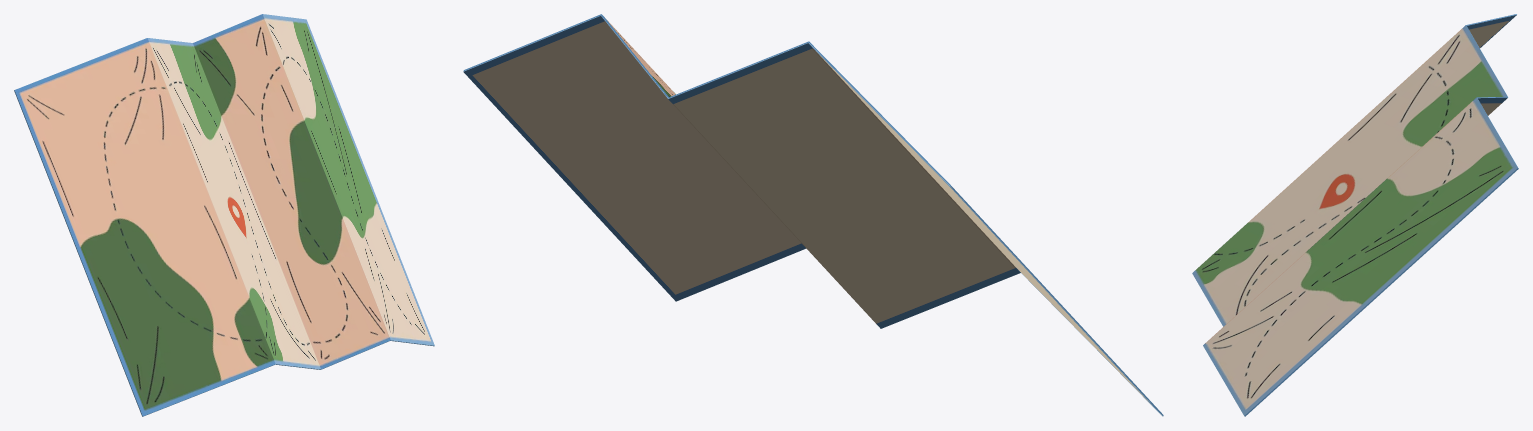
Rendered from Folded Travel Map.obj.
3 views of the same model, side by side, from view 1: azimuth 30°, elevation 25°; view 2: azimuth 150°, elevation 25°; view 3: azimuth 270°, elevation 25° (orthographic). The views are drawn at different scales.
Visible parts, largest first — view 1: FoldedTravelMap; view 2: FoldedTravelMap; view 3: FoldedTravelMap.
Part boxes in pixels (left/top/right/bottom): FoldedTravelMap: left=14, top=14, right=434, bottom=416; FoldedTravelMap: left=463, top=14, right=1163, bottom=416; FoldedTravelMap: left=1192, top=14, right=1518, bottom=416.
Bounding box in the file's own units: 0.3401 × 0.3079 × 0.3079.
Materials: 1 (1 with a texture image).
